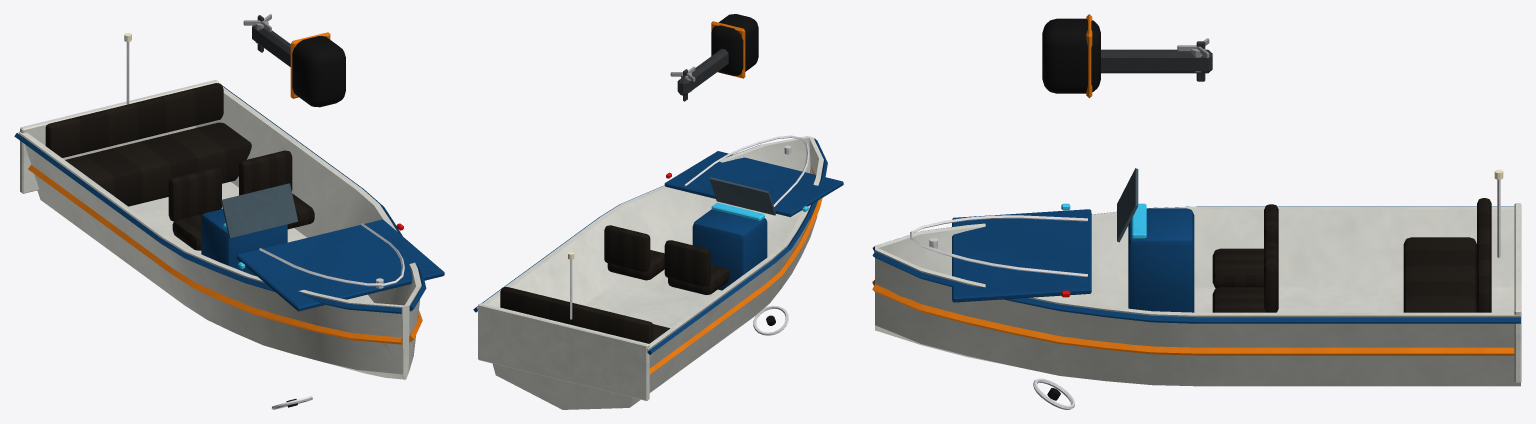
File: NaavSpeedboat.fbx
3 views of the same model, side by side, from view 1: azimuth 30°, elevation 25°; view 2: azimuth 150°, elevation 25°; view 3: azimuth 270°, elevation 25° (orthographic). The views are drawn at different scales.
Parts seen in each view (by area): view 1: Body_LOD0, Motor_Pivot_Mesh_LOD0; view 2: Body_LOD0, Motor_Pivot_Mesh_LOD0, Steering_Pivot_Mesh_LOD0; view 3: Body_LOD0, Motor_Pivot_Mesh_LOD0, Steering_Pivot_Mesh_LOD0.
Boxes of the visible parts, left/top/right/bottom form: Body_LOD0: left=14, top=33, right=444, bottom=379; Motor_Pivot_Mesh_LOD0: left=243, top=14, right=345, bottom=107; Body_LOD0: left=473, top=135, right=843, bottom=409; Motor_Pivot_Mesh_LOD0: left=670, top=14, right=758, bottom=101; Steering_Pivot_Mesh_LOD0: left=753, top=305, right=788, bottom=335; Body_LOD0: left=872, top=168, right=1521, bottom=386; Motor_Pivot_Mesh_LOD0: left=1042, top=14, right=1212, bottom=98; Steering_Pivot_Mesh_LOD0: left=1033, top=378, right=1074, bottom=409.
Size of what is drawn, in the model's own units: 1.83 by 3.02 by 4.42.
